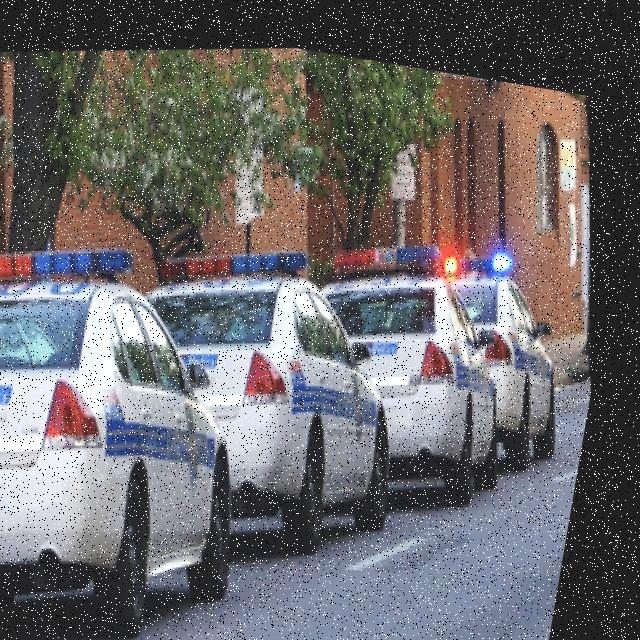license_plate: (0, 466, 10, 536)
